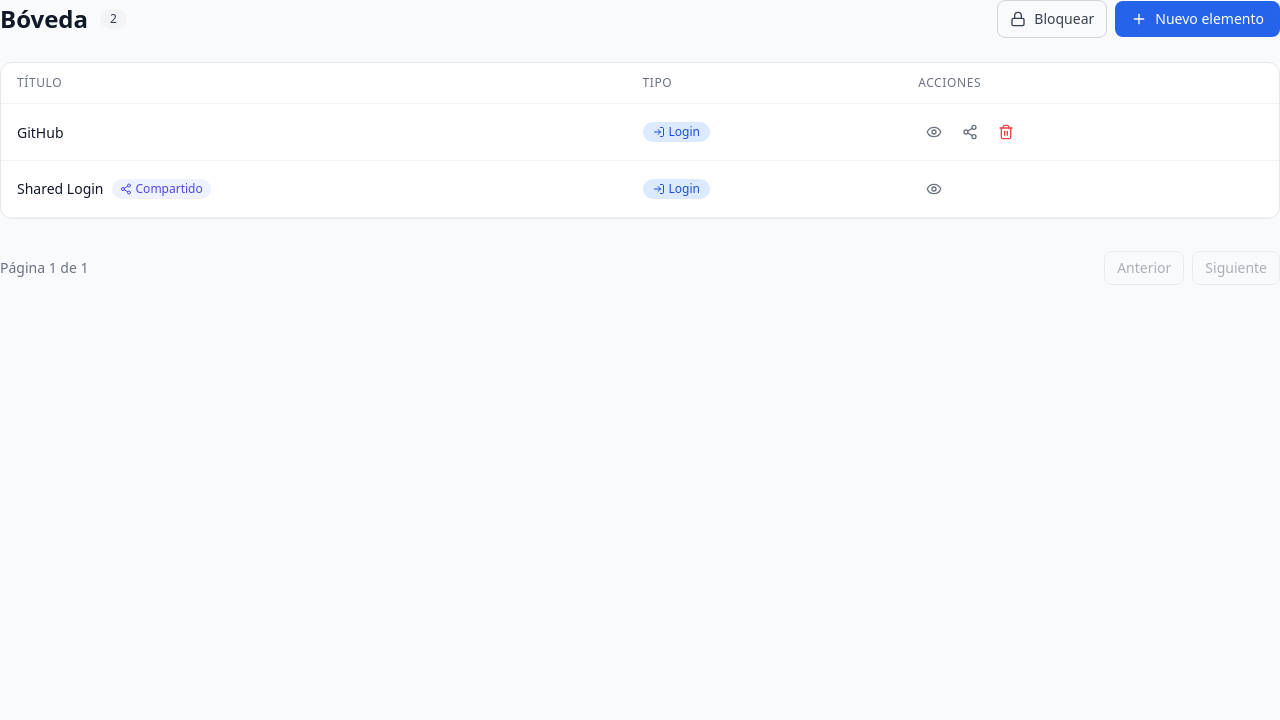
Test case: VaultPage › reveals a shared item in a read-only modal
Click the button named "Ver" at (934, 189), box [918,173,950,205]
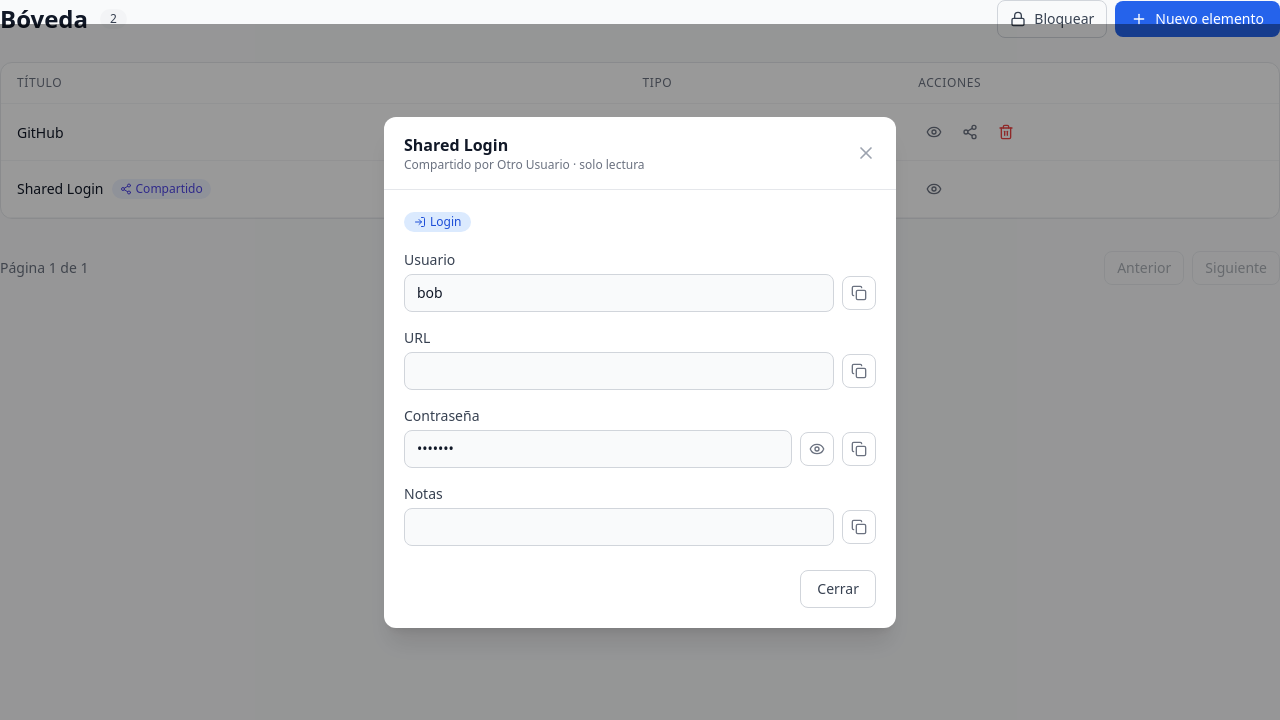
expect the text "Compartido por Otro Usuario · solo lectura" is shown: met, box [404,156,645,172]
